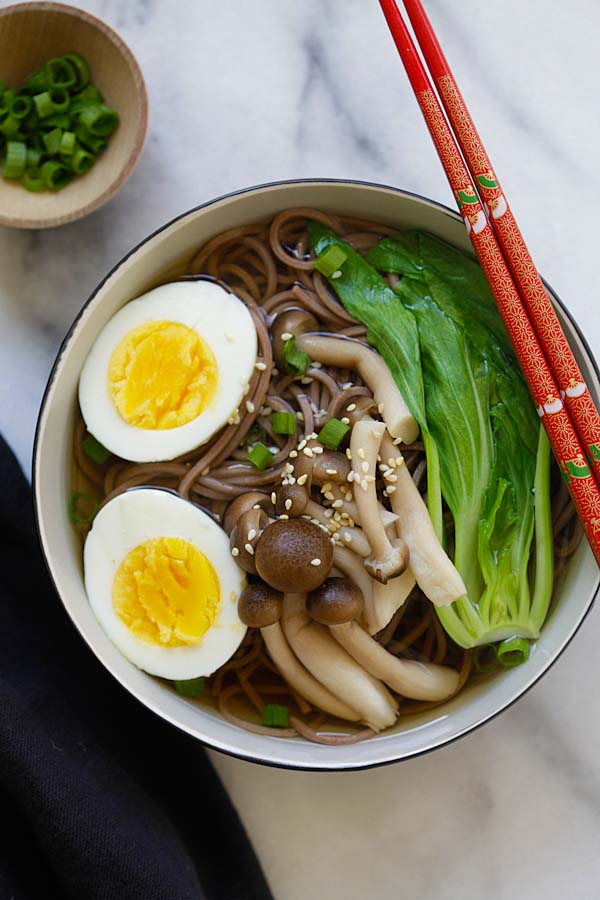Soba: (188, 206, 462, 660)
